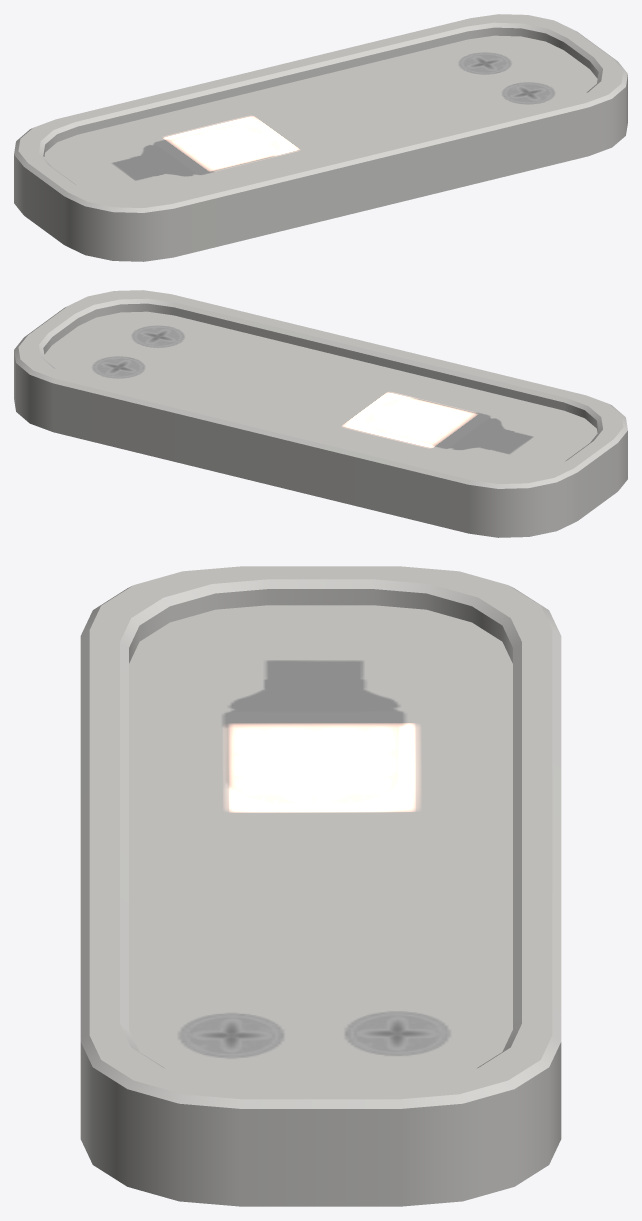
File: SM_Lamp_2_3.fbx
3 renders of one model, top to bottom at view 1: azimuth 30°, elevation 25°; view 2: azimuth 150°, elevation 25°; view 3: azimuth 270°, elevation 25°, orthographic. The views are drawn at different scales.
Visible parts, largest first — view 1: SM_Lamp_2_3_LOD0; view 2: SM_Lamp_2_3_LOD0; view 3: SM_Lamp_2_3_LOD0.
Part boxes in pixels (bbox=[...]): SM_Lamp_2_3_LOD0: bbox=[14, 14, 627, 261]; SM_Lamp_2_3_LOD0: bbox=[14, 290, 627, 537]; SM_Lamp_2_3_LOD0: bbox=[80, 566, 561, 1206].
Bounding box in the file's own units: 16.03 × 1.43 × 6.03.
1 material, 1 textured.
